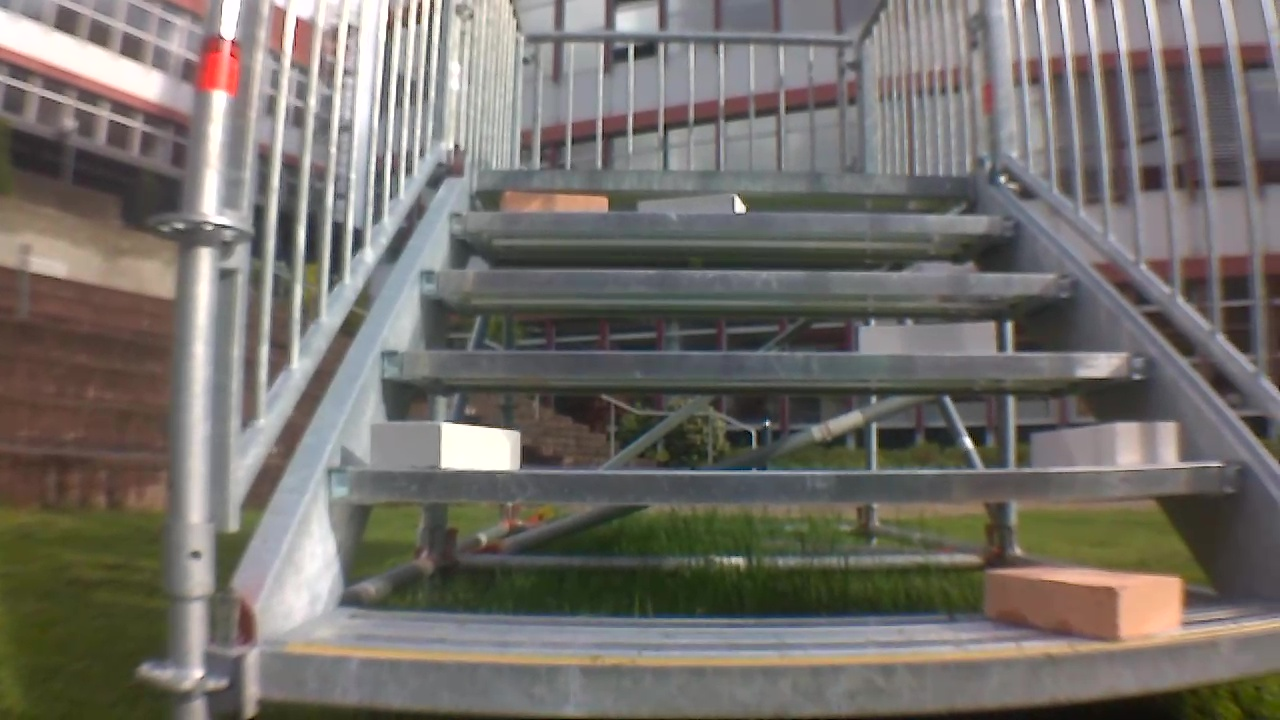brick: (986, 565, 1181, 639), (370, 423, 519, 469), (1032, 422, 1181, 465), (858, 322, 994, 354), (503, 192, 608, 213), (638, 194, 744, 214)
edge: (265, 622, 1277, 714), (329, 464, 1245, 502), (374, 351, 1147, 377), (420, 270, 1074, 294), (452, 213, 1020, 235), (472, 170, 976, 193)
stairs: (150, 1, 1280, 718)
steps: (257, 164, 1280, 718)
